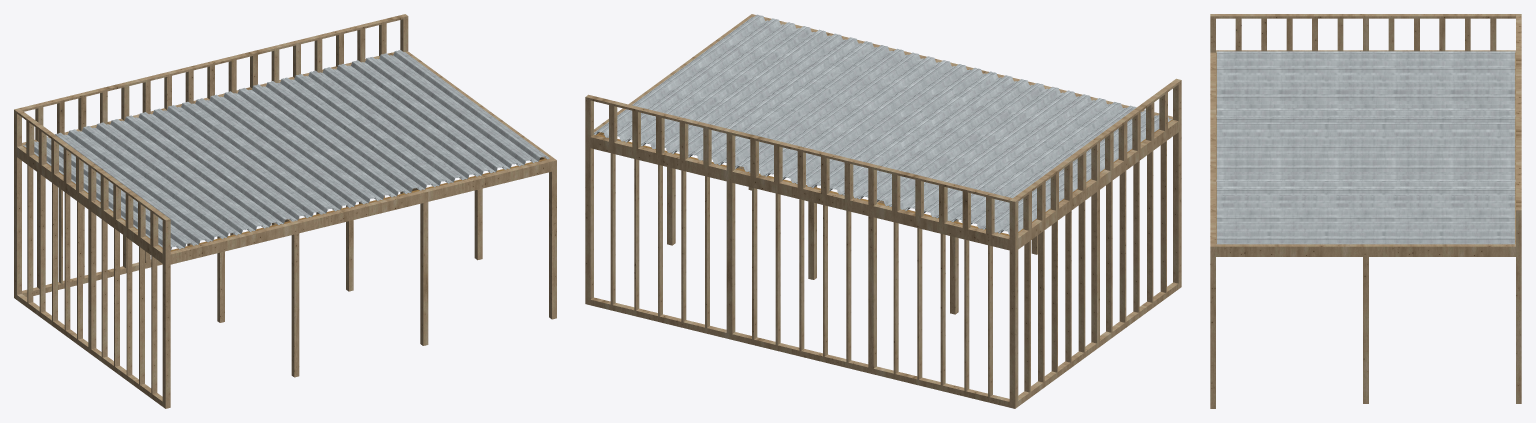
File: asset.glb
3 renders of one model, left to right at view 1: azimuth 30°, elevation 25°; view 2: azimuth 150°, elevation 25°; view 3: azimuth 270°, elevation 25°, orthographic. The views are drawn at different scales.
Visible parts, largest first — view 1: 木造パラペット_; view 2: 木造パラペット_; view 3: 木造パラペット_.
Part boxes in pixels (<box>): 木造パラペット_: <box>14,14,556,408</box>; 木造パラペット_: <box>585,14,1181,408</box>; 木造パラペット_: <box>1210,14,1521,408</box>.
Size of the model in its own units: 3.32 by 1.57 by 2.23.
3 materials, 3 textured.
